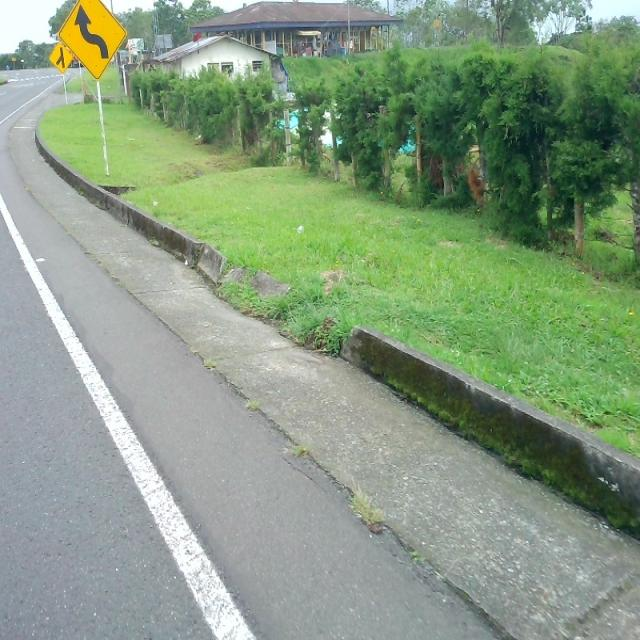DITCH: (11, 82, 638, 638)
